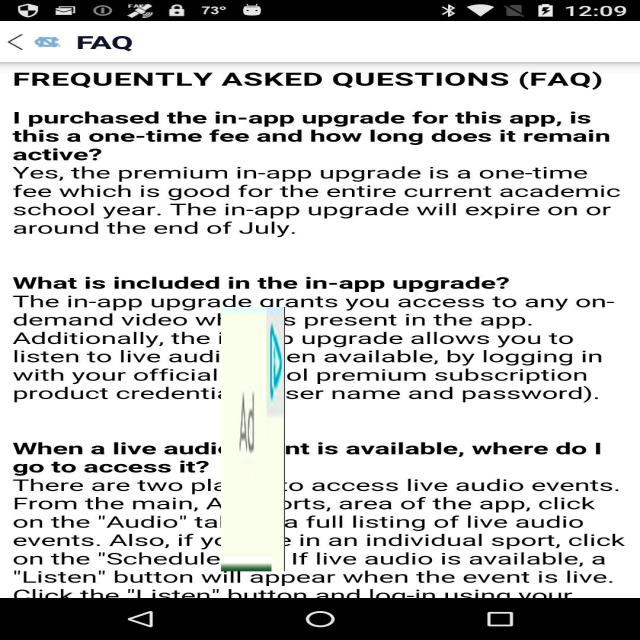sneaking: (221, 307, 285, 571)
